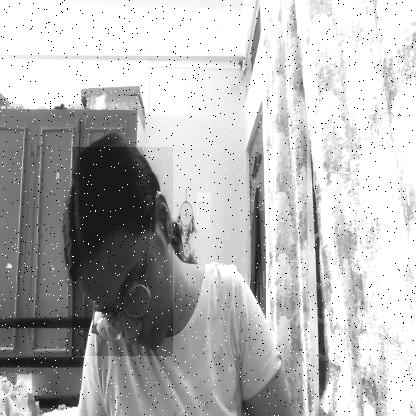Distracted: (72, 147, 173, 356)
